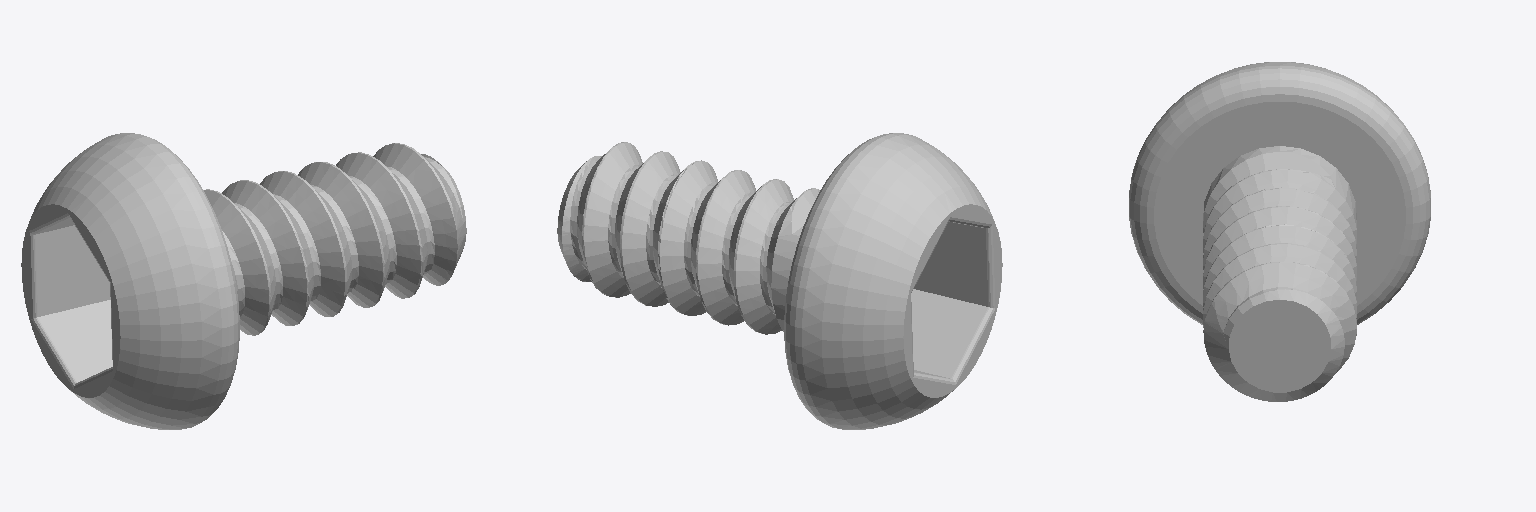
Rendered from ScrewS.obj.
3 renders of one model, left to right at view 1: azimuth 30°, elevation 25°; view 2: azimuth 150°, elevation 25°; view 3: azimuth 270°, elevation 25°, orthographic.
Visible parts, largest first — view 1: Screw_short.001; view 2: Screw_short.001; view 3: Screw_short.001.
Boxes of the visible parts, <box> form: Screw_short.001: <box>21,133,466,429</box>; Screw_short.001: <box>557,133,1002,429</box>; Screw_short.001: <box>1129,62,1430,401</box>.
Bounding box in the file's own units: 0.83 × 0.5895 × 0.5881.